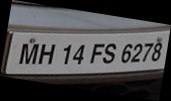character: (18, 43, 39, 65), (36, 43, 56, 65), (89, 42, 104, 64), (101, 42, 116, 64), (71, 43, 84, 64), (141, 42, 154, 62), (120, 42, 132, 63), (130, 43, 142, 62), (151, 42, 162, 61), (62, 43, 71, 64)
